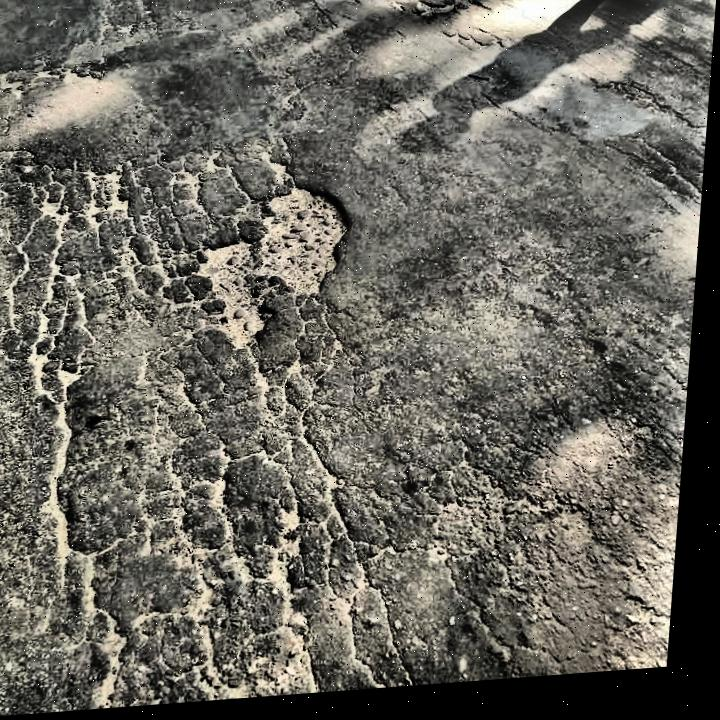pothole: (190, 179, 358, 360)
